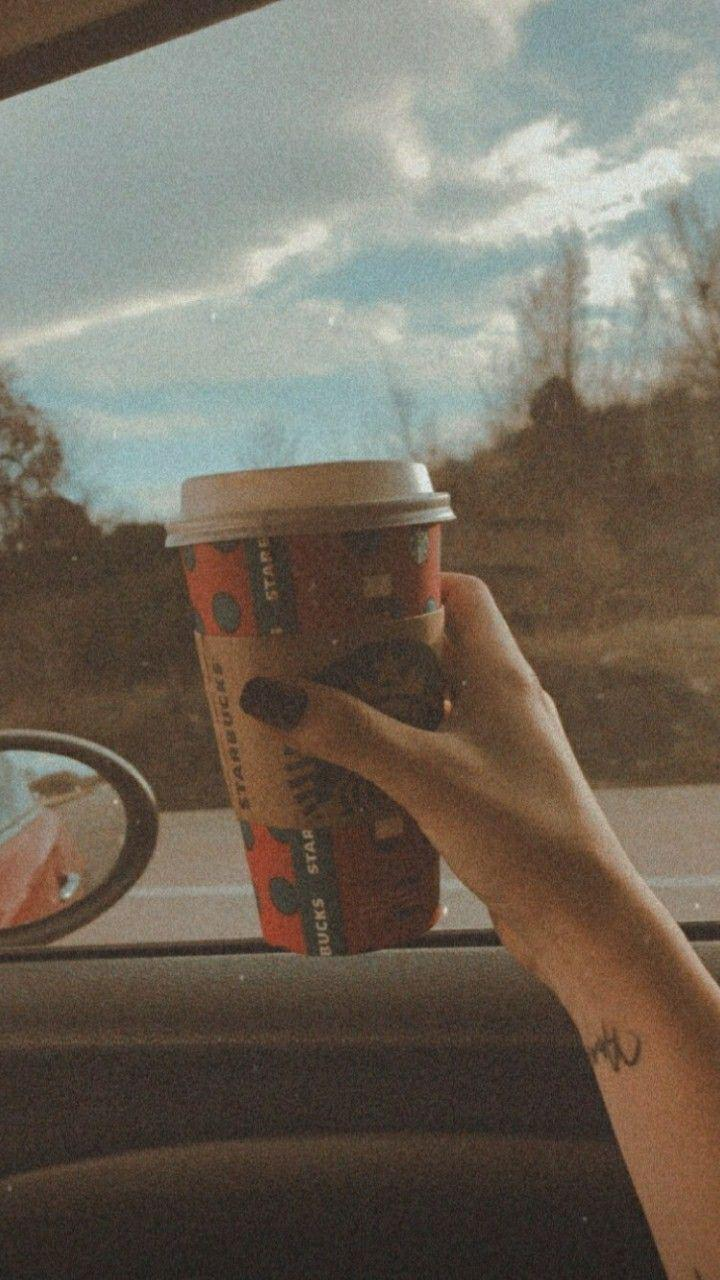cup-disposable: (164, 455, 458, 966)
